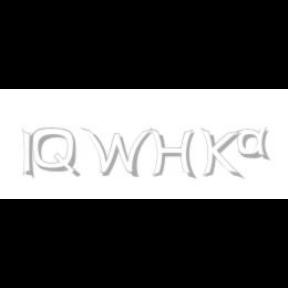H: (150, 128, 196, 180)
I: (22, 128, 36, 180)
K: (200, 128, 240, 180)
Q: (32, 128, 78, 178)
W: (80, 128, 152, 178)
a: (237, 128, 274, 160)
